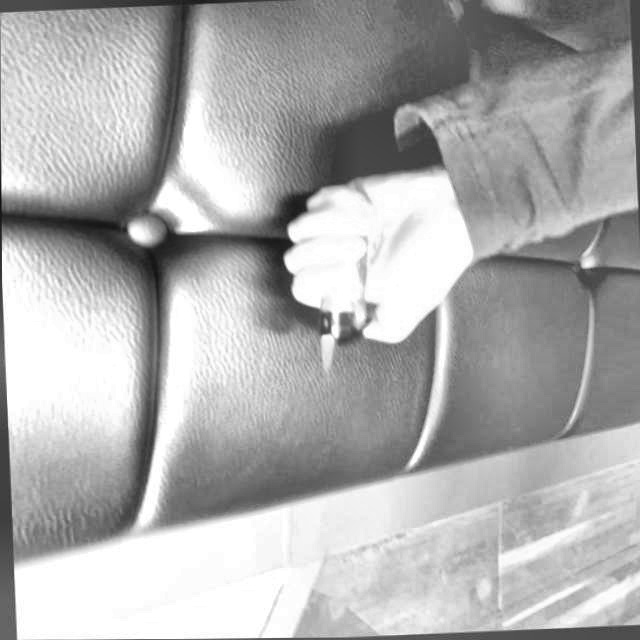Fire: (316, 331, 335, 374)
